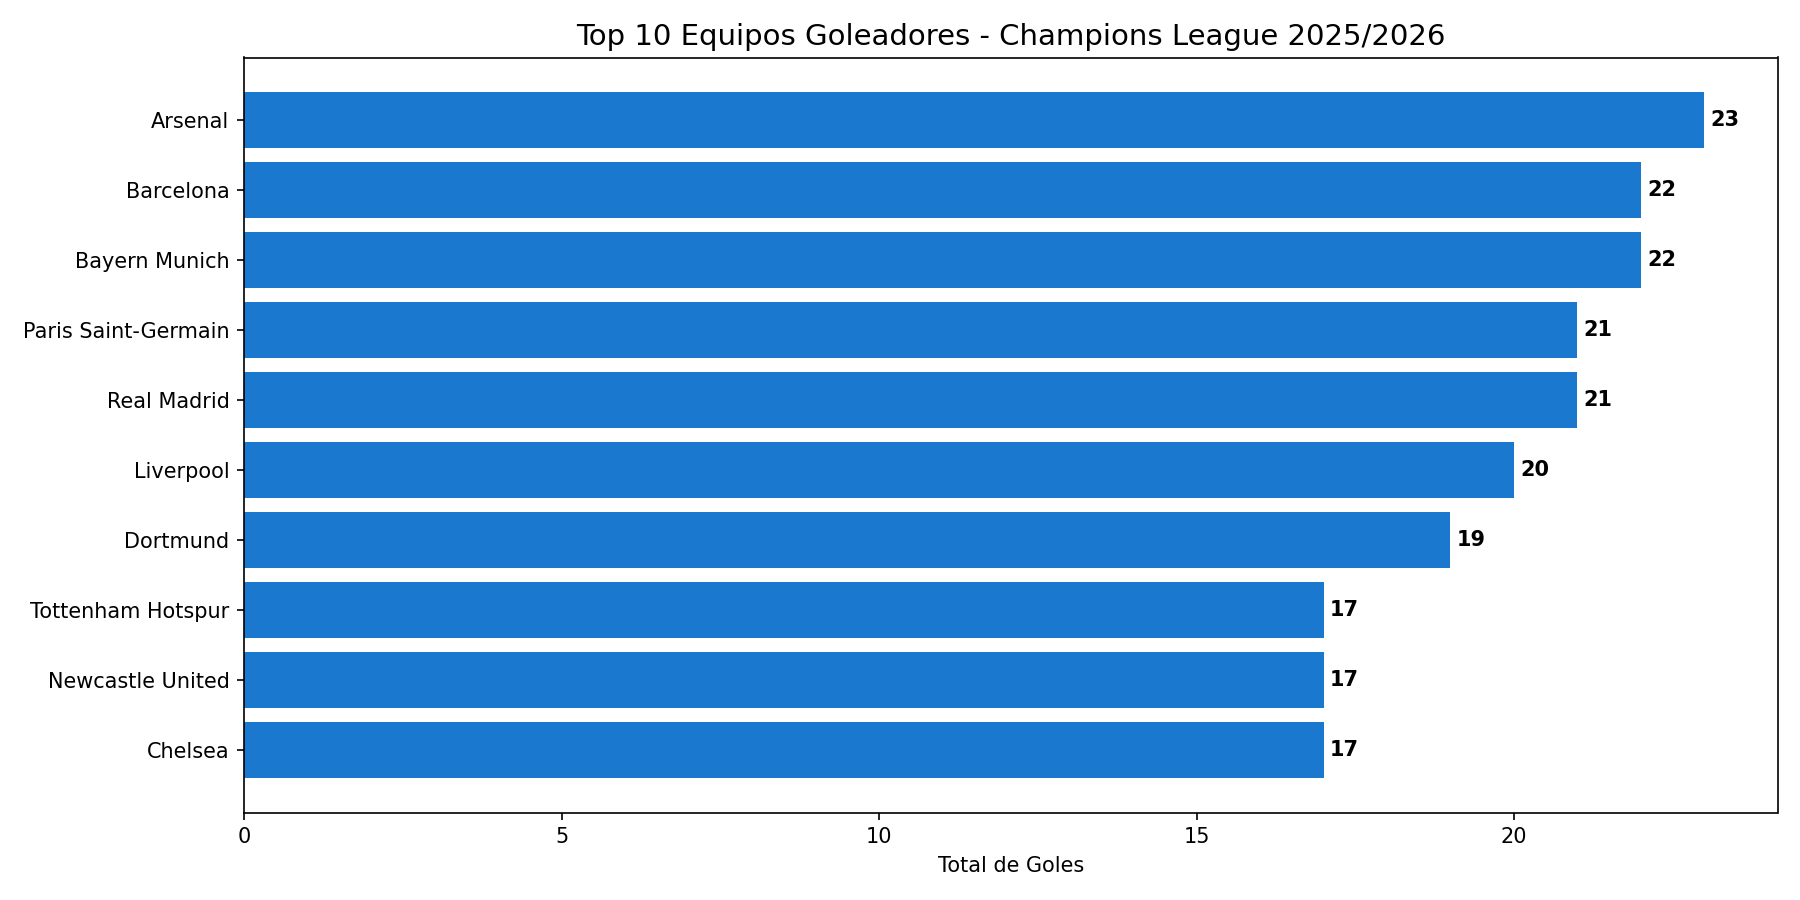

Layout of this report page (visuals, bound fields, positions):
{"tool":"powerbi","page":{"name":" Gráfico de barras: Top goleadores","canvas":[1280,720],"ordinal":0},"visuals":[{"type":"barChart","fields":{"Category":["Tabla1.home_team"],"Y":["Sum(Tabla1.home_goals)"]},"box":[40.3,20.2,1217.8,683.7],"z":0}]}

Visuals, with their boxes on the page's 1280x720 design canvas (x1, y1, x2, y2). These are canvas units, not pixel positions in the 1800x900 screenshot, which may show the page scaled, cropped or inside an application window:
barChart - Tabla1.home_team x Sum(Tabla1.home_goals): bbox=[40, 20, 1258, 704]
